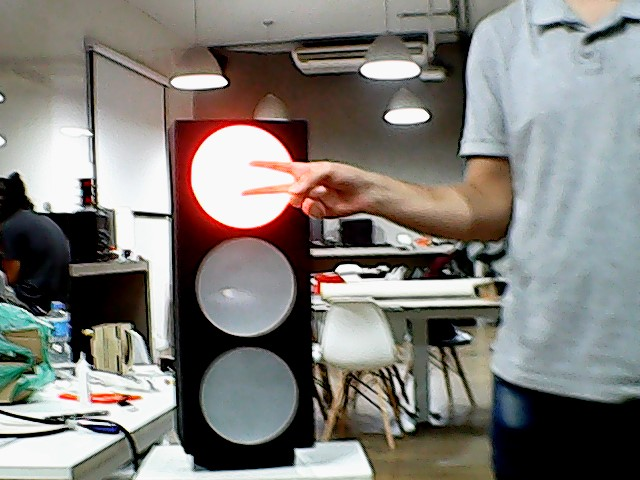vermelho: (169, 106, 318, 457)
